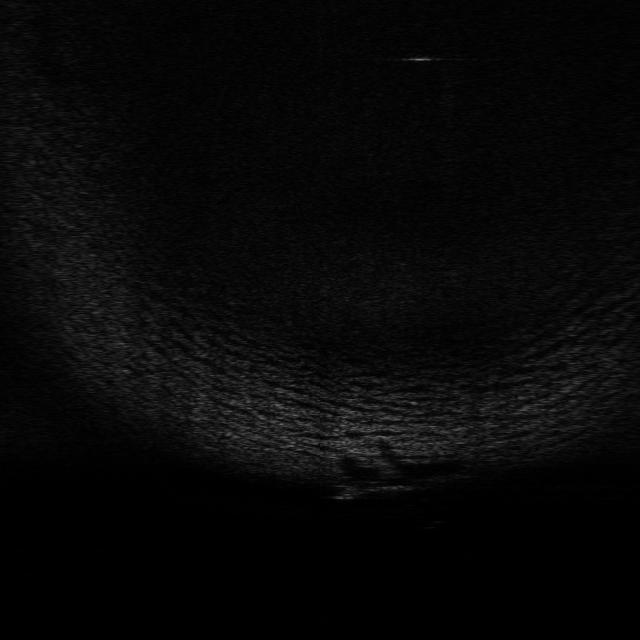plane: (328, 473, 423, 502)
